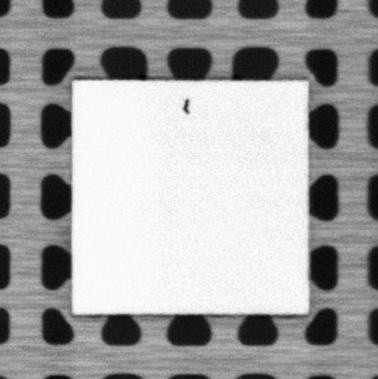DIE_INK: (181, 97, 192, 114)
